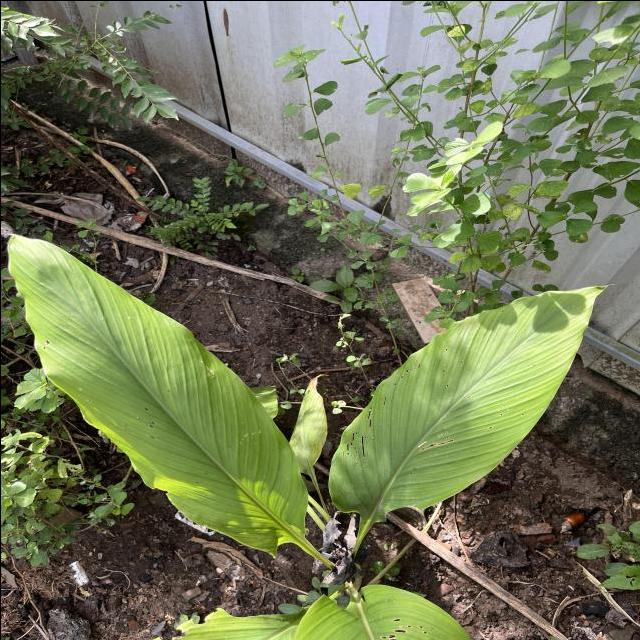Curcuma longa: (1, 226, 311, 558), (320, 274, 622, 528)
